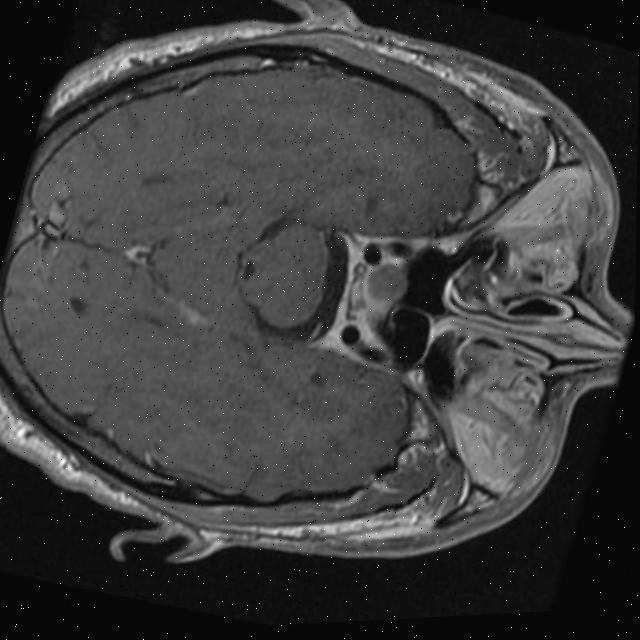Pituitary: (344, 251, 414, 327)
